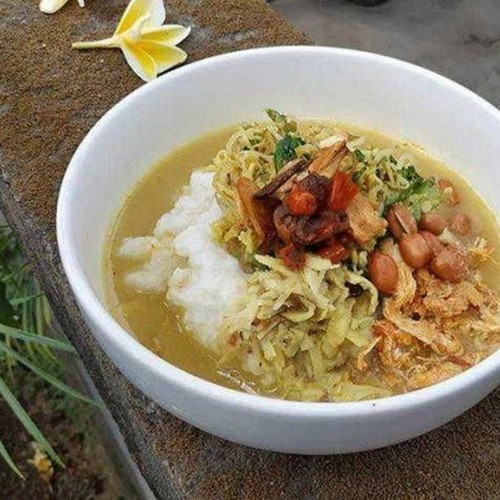bubur mengguh: (124, 103, 488, 374)
